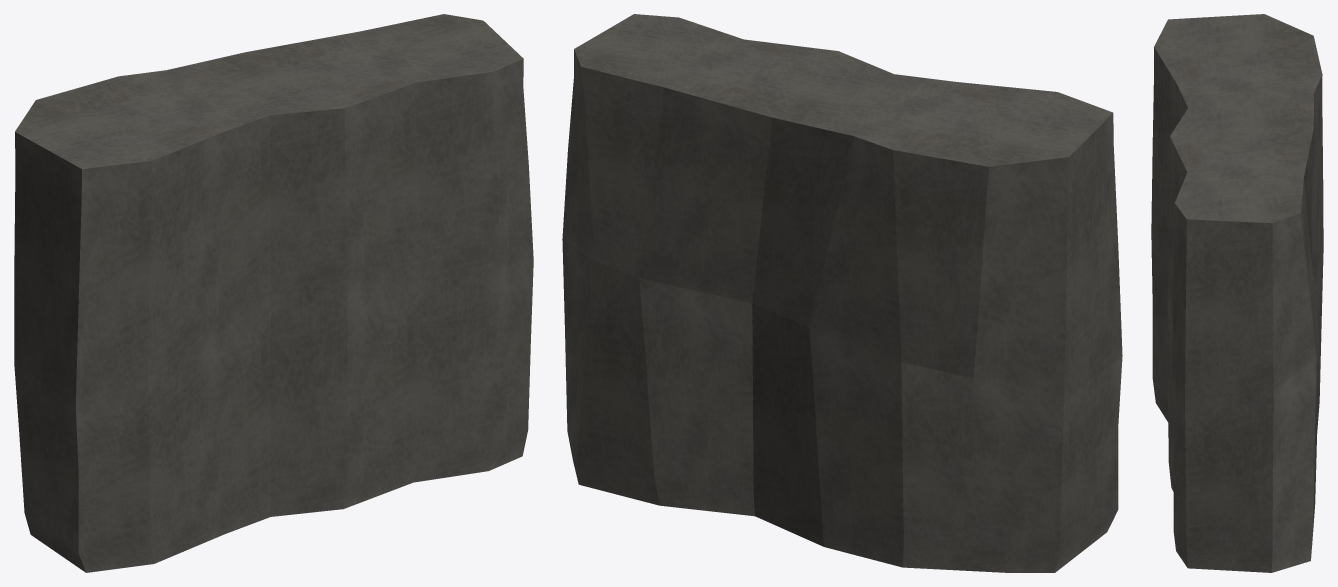
Rendered from ZachMesaRock2.fbx.
The picture shows the model from 3 angles, left to right: view 1: azimuth 30°, elevation 25°; view 2: azimuth 150°, elevation 25°; view 3: azimuth 270°, elevation 25°; orthographic projection. The views are drawn at different scales.
Parts seen in each view (by area): view 1: ZachMesaRock2; view 2: ZachMesaRock2; view 3: ZachMesaRock2.
Part boxes in pixels (x1,y1,x2,y2): ZachMesaRock2: (14, 14, 533, 572); ZachMesaRock2: (562, 14, 1122, 572); ZachMesaRock2: (1151, 14, 1323, 572).
Bounding box in the file's own units: 27.96 × 22.41 × 9.83.
